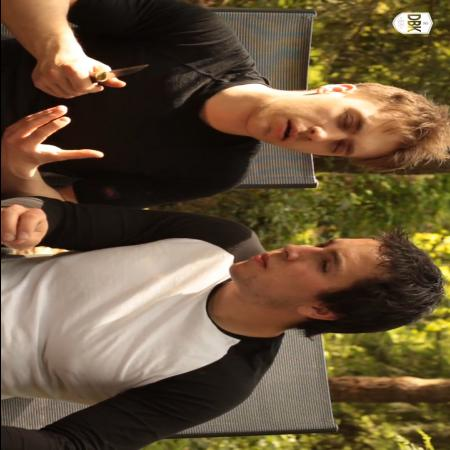long weapon: (53, 54, 154, 100)
